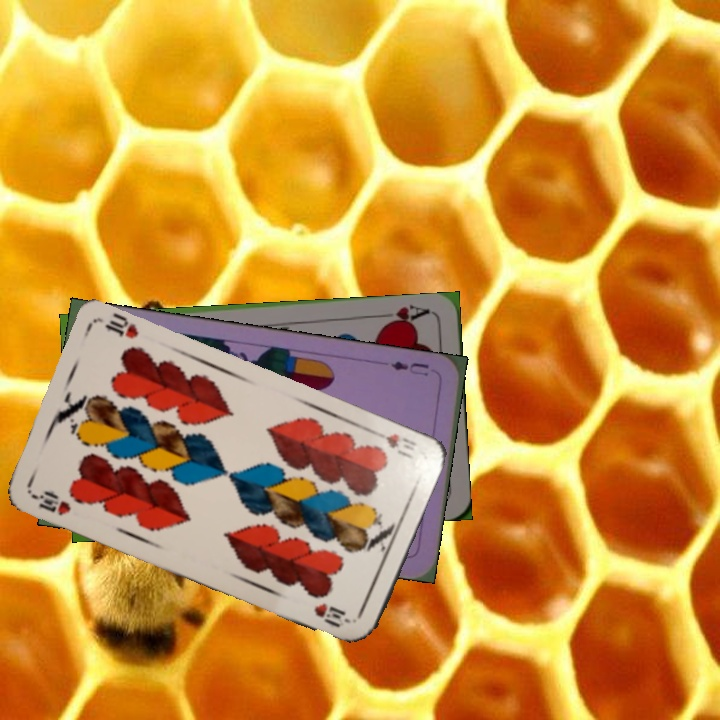EU: (387, 357, 431, 379)
H10: (368, 425, 420, 462), (28, 486, 74, 518)
HA: (375, 301, 434, 330)
